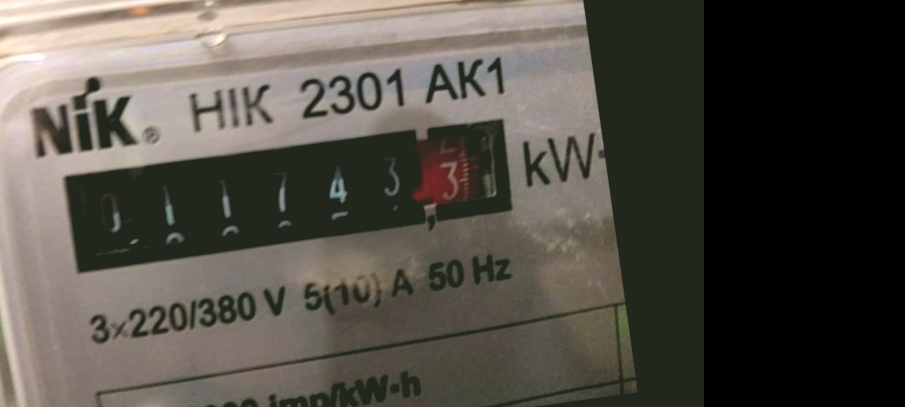0: (91, 186, 126, 237)
1: (210, 172, 237, 222), (156, 180, 179, 230)
3: (373, 150, 407, 201), (434, 156, 464, 203)
4: (319, 157, 354, 208)
7: (266, 166, 296, 217)
screen: (46, 104, 523, 285)
